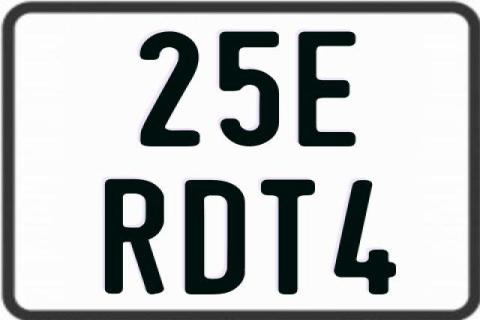0: (139, 32, 204, 152), (333, 178, 397, 296), (219, 31, 281, 146)
D: (182, 178, 242, 296)
E: (297, 30, 358, 148)
R: (104, 177, 169, 296)
T: (260, 178, 318, 294)
